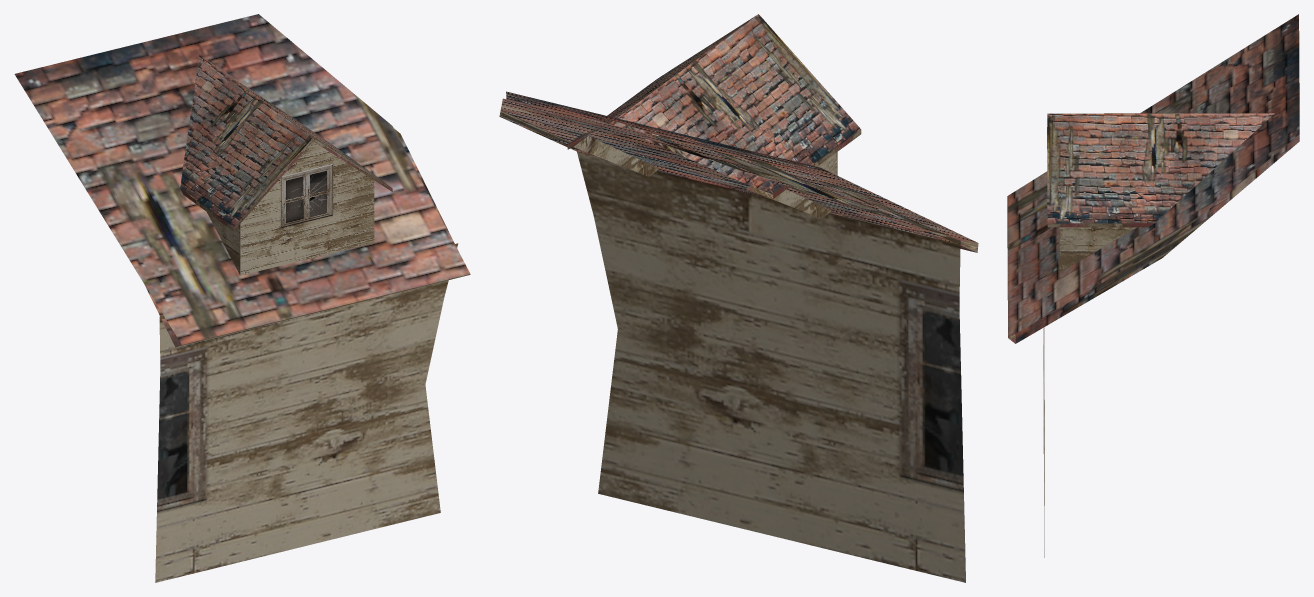
File: House_01_05.fbx
3 views of the same model, side by side, from view 1: azimuth 30°, elevation 25°; view 2: azimuth 150°, elevation 25°; view 3: azimuth 270°, elevation 25° (orthographic). The views are drawn at different scales.
Parts seen in each view (by area): view 1: Cube.005; view 2: Cube.005; view 3: Cube.005.
Boxes of the visible parts, x1=… form: Cube.005: x1=14, y1=14, x2=470, y2=582; Cube.005: x1=499, y1=14, x2=978, y2=582; Cube.005: x1=1007, y1=14, x2=1299, y2=557.
Size of the model in its own units: 11.03 by 13.89 by 8.73.
